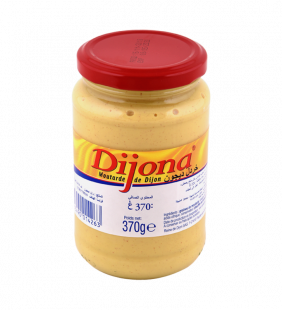Promotion: (71, 29, 211, 281)
